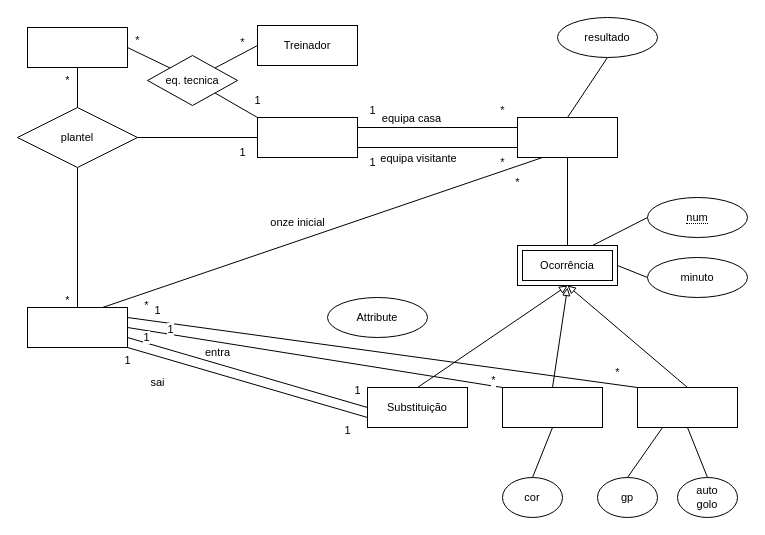
Image size: 765x535. Some labels were removed from this diagram. The shapes that lost their labels are listed below. From the top down, each one's box as (x1, y1, x2, y2) in pixels, then its label:
(26, 26, 128, 68): Temporada
(256, 116, 358, 158): Equipa
(516, 116, 618, 158): Jogo
(26, 306, 128, 348): Jogador
(502, 386, 602, 428): Cartão
(636, 386, 738, 428): Golo
